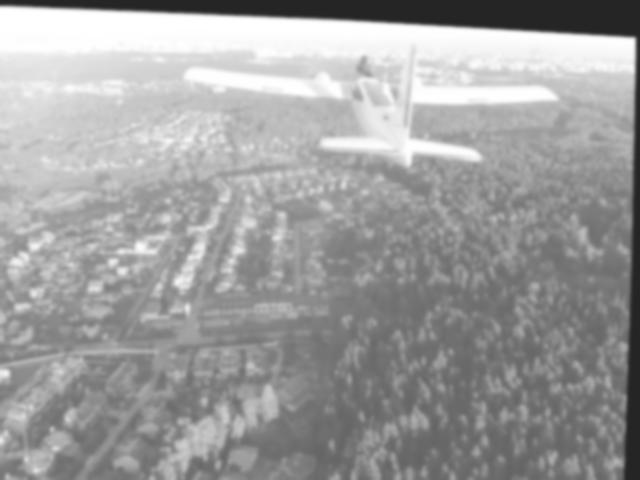hedef: (176, 42, 577, 181)
